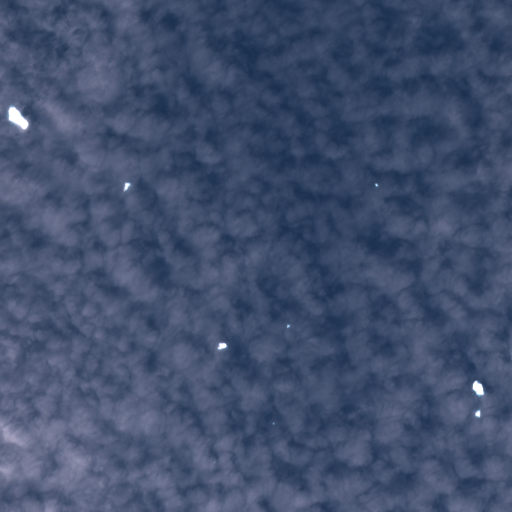Iceberg: (8, 105, 28, 129), (472, 380, 484, 396), (123, 182, 131, 191), (217, 342, 227, 349), (474, 409, 480, 417), (286, 324, 290, 327), (375, 183, 378, 186), (272, 422, 274, 424)
